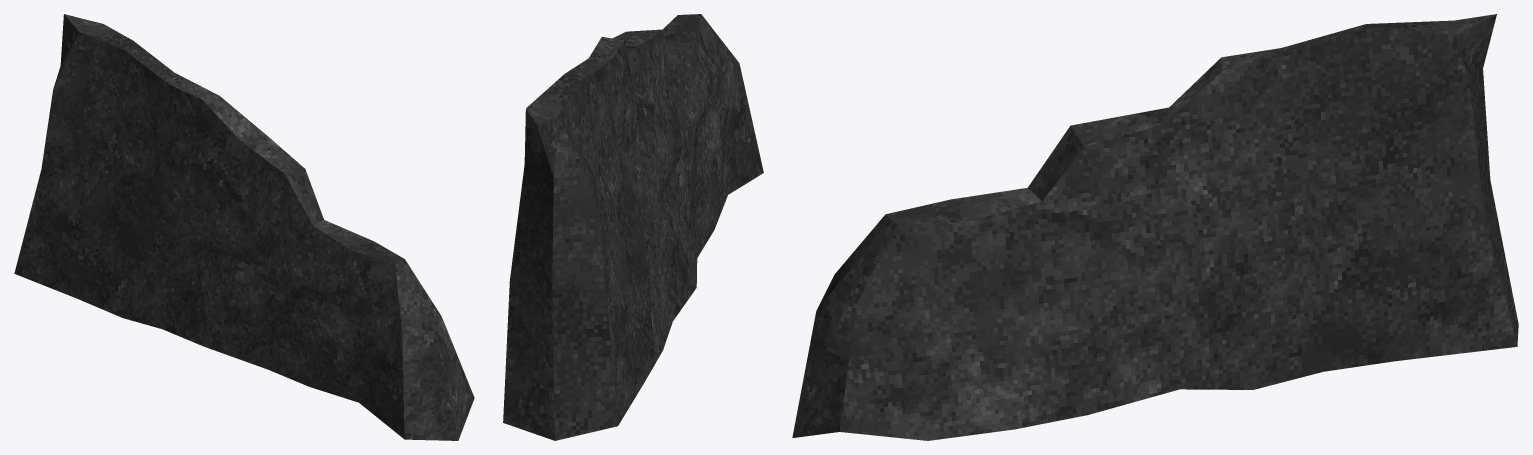
The model's file is CaveShortWall.glb.
3 views of the same model, side by side, from view 1: azimuth 30°, elevation 25°; view 2: azimuth 150°, elevation 25°; view 3: azimuth 270°, elevation 25° (orthographic). The views are drawn at different scales.
Visible parts, largest first — view 1: Cube.008; view 2: Cube.008; view 3: Cube.008.
Boxes of the visible parts, x1,y1,x2,y2 form: Cube.008: (14, 14, 474, 440); Cube.008: (503, 14, 763, 440); Cube.008: (792, 14, 1518, 440).
Size of the model in its own units: 3.91 by 4.49 by 8.57.
1 material, 1 textured.
